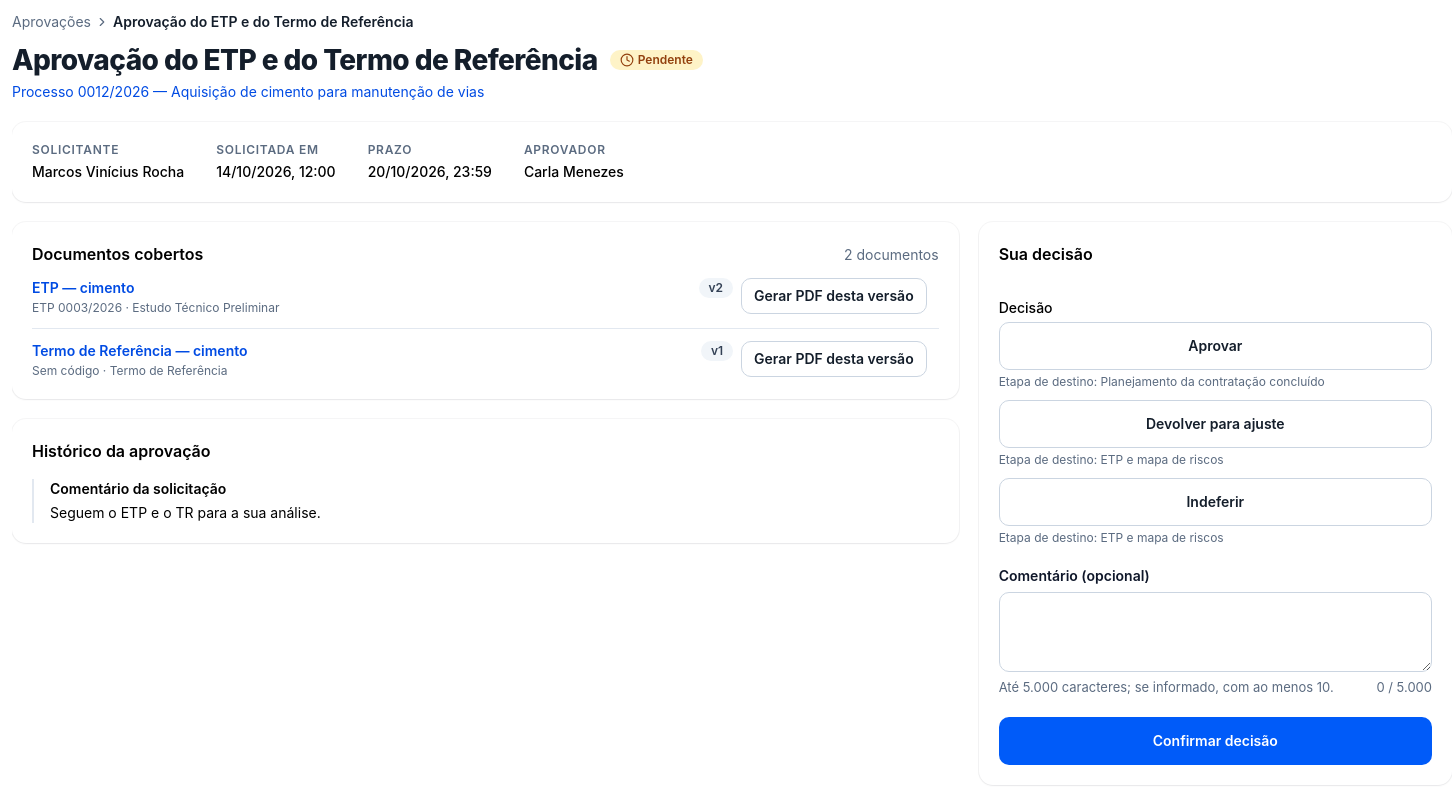
SCR-015 · Detalhe da aprovação (US-052) › indeferir também exige o motivo; sem decisão escolhida pede "Selecione uma decisão."
Click the button "Confirmar decisão" at coordinates (1215, 741), box [999,717,1432,765]
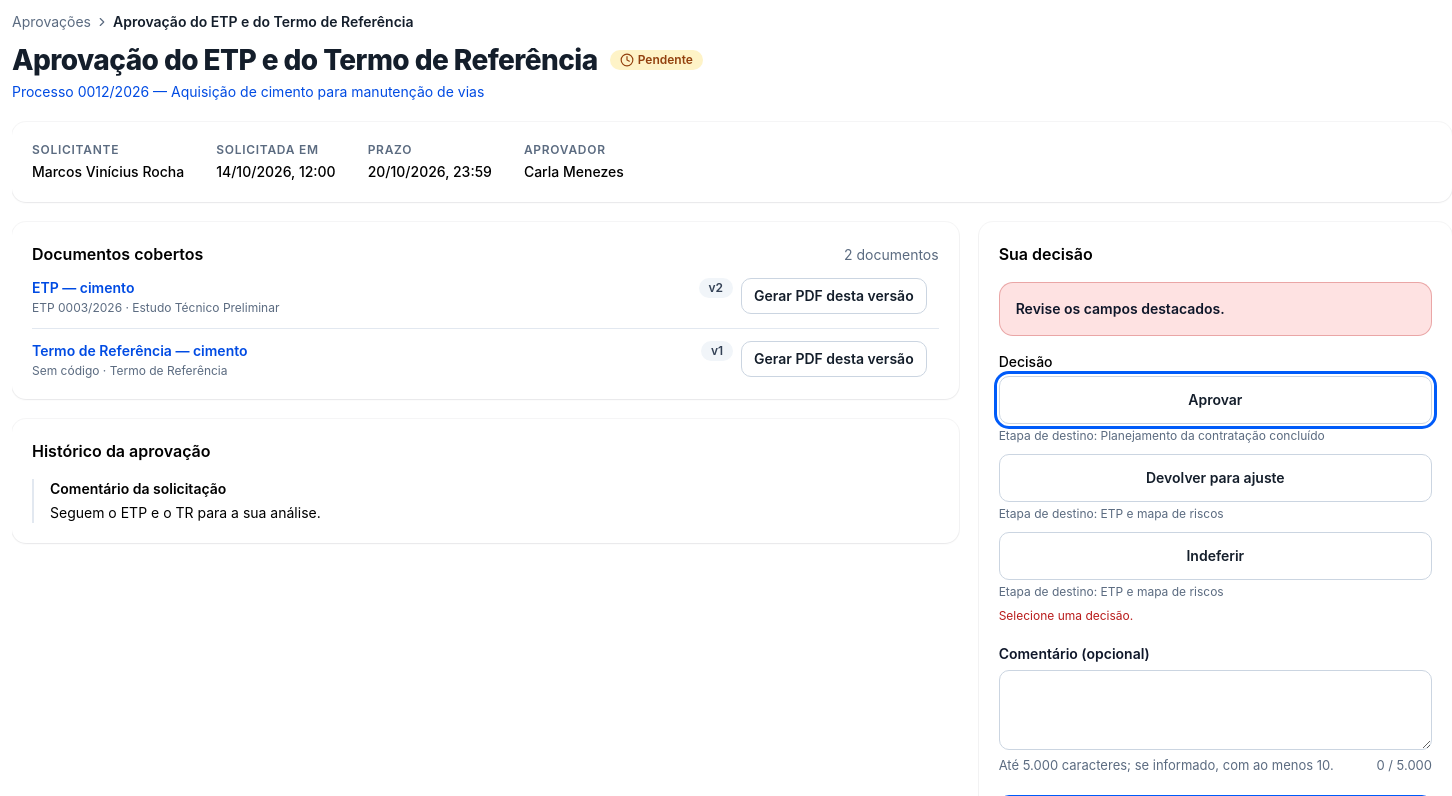
Now the text "Selecione uma decisão." is shown, box [999,608,1133,623]
Click the button "Indeferir" at coordinates (1215, 556), box [999,532,1432,580]
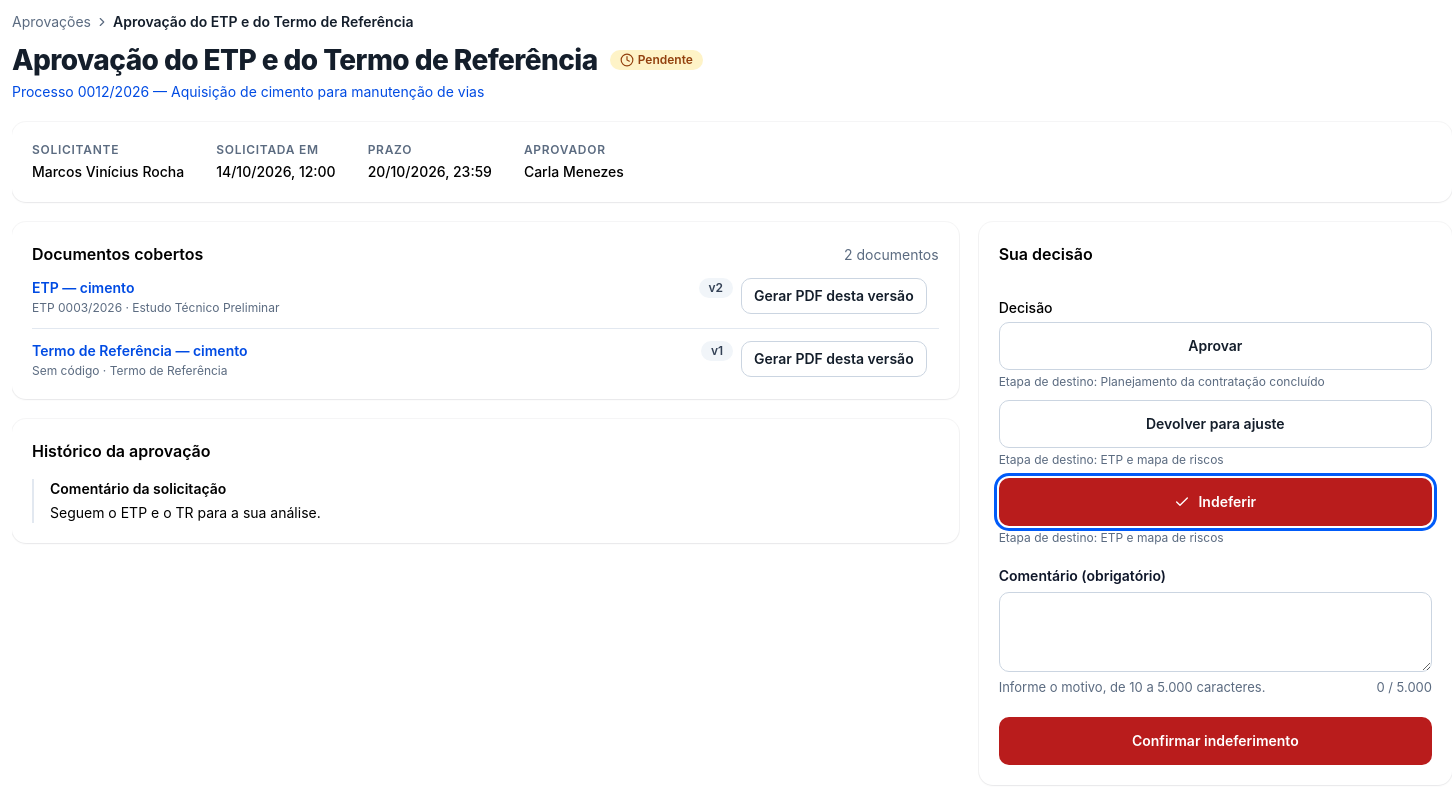
Now the text "Selecione uma decisão." is gone
Click the button "Confirmar indeferimento" at coordinates (1215, 741), box [999,717,1432,765]
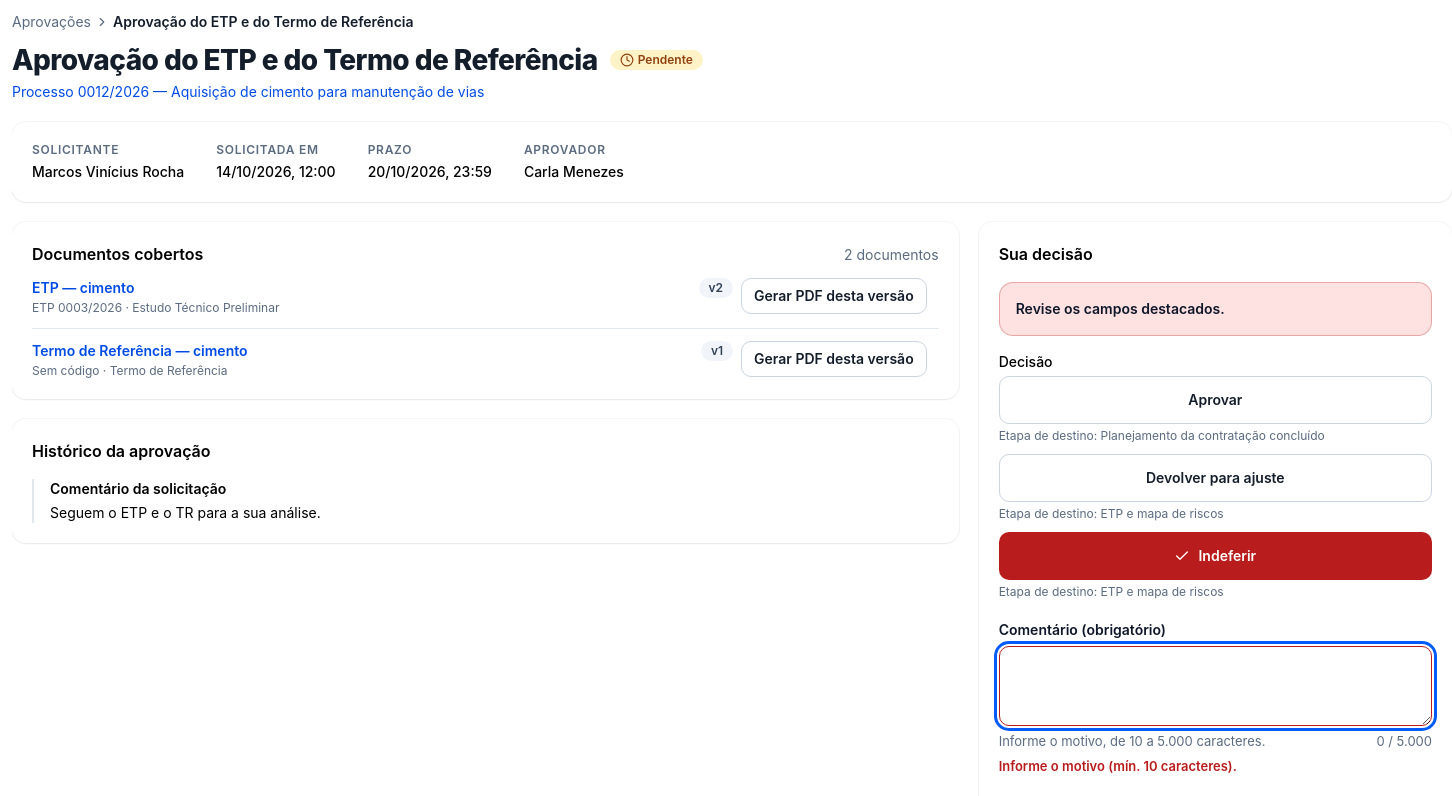
Now the text "Informe o motivo (mín. 10 caracteres)." is shown, box [999,758,1237,774]
